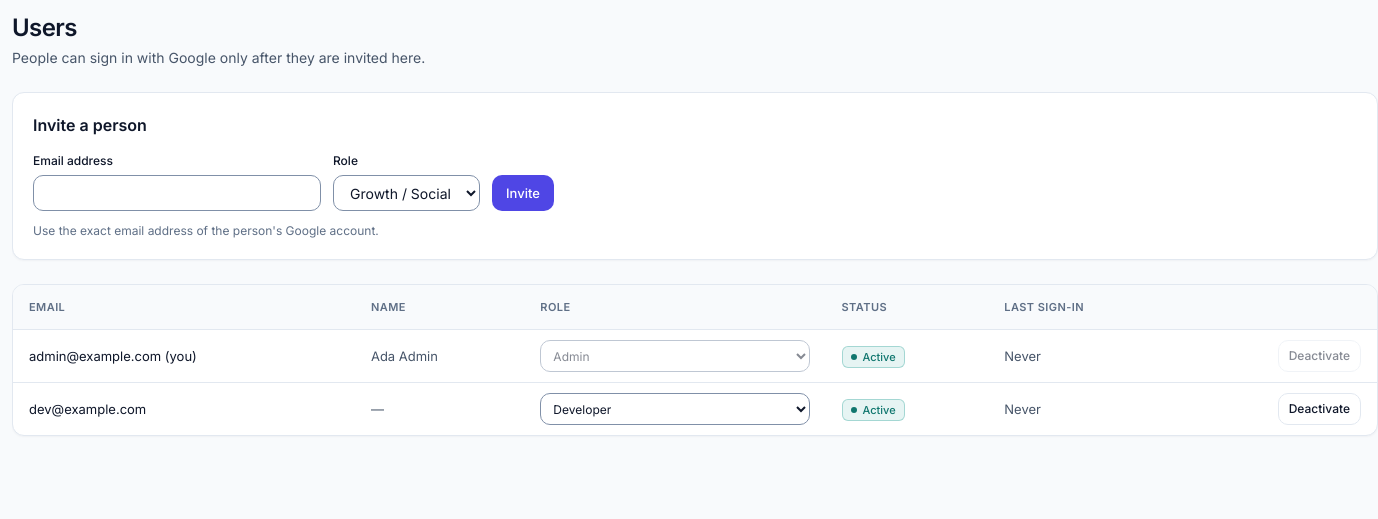
UsersPage › shows the server's reason when a change is refused
Select "Growth / Social" in the dropdown named "Role for dev@example.com" at (675, 409), box [540,393,810,425]
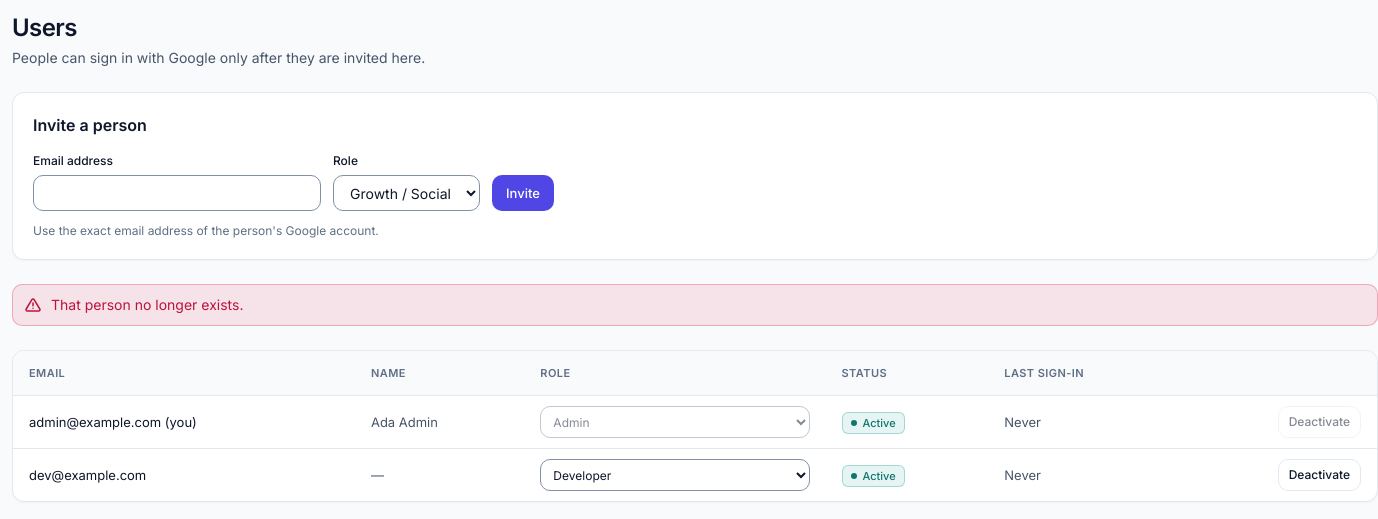
Now the message reads "That person no longer exists.", box [51,296,244,313]
